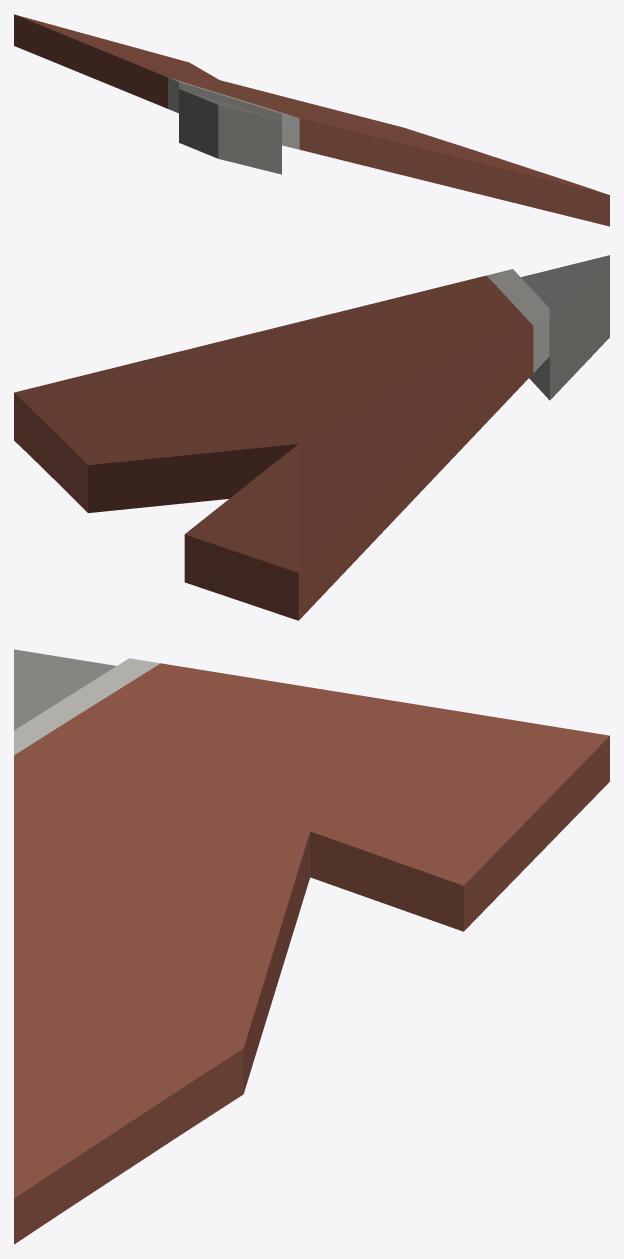
Rendered from 17-109463-59480.aaf81a5e.glb.
3 views of the same model, one above another, from view 1: azimuth 30°, elevation 25°; view 2: azimuth 150°, elevation 25°; view 3: azimuth 270°, elevation 25° (orthographic). The views are drawn at different scales.
Size of the model in its own units: 9.1 by 4.83 by 8.23.
